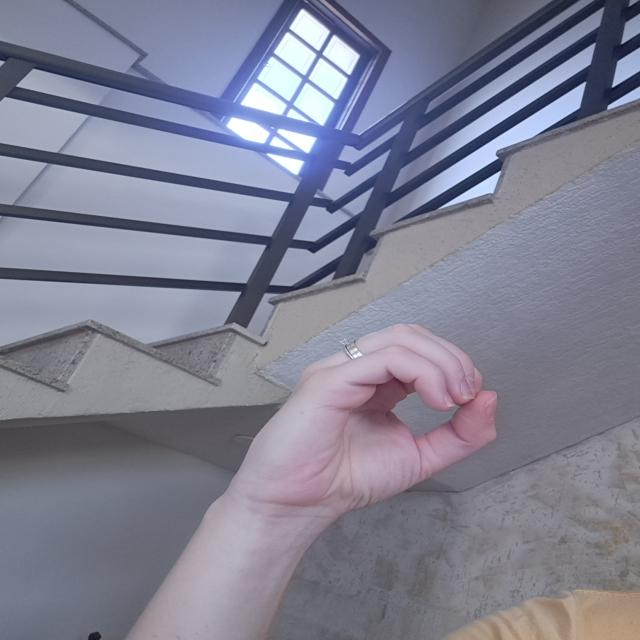O: (235, 326, 505, 526)
